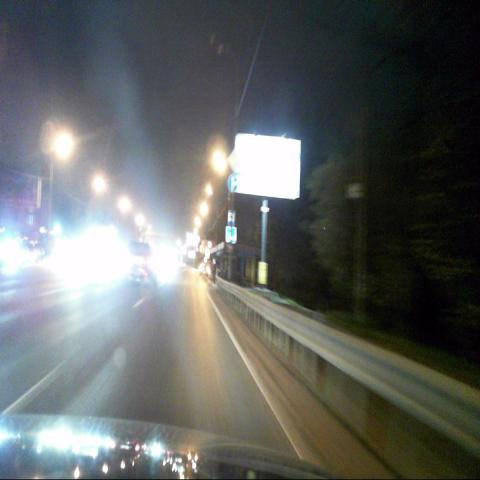4_1_4: (228, 173, 238, 192)
